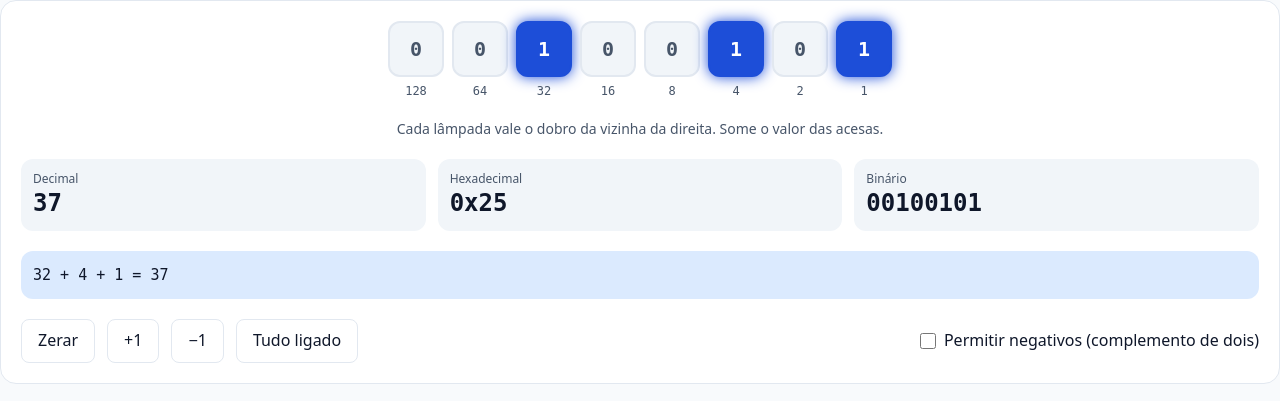
Scenario: simulador de binário › com negativos, o bit mais à esquerda vale -128
The image size is (1280, 401).
Click the button "Tudo ligado" at x=297, y=341, box [236,319,358,363]
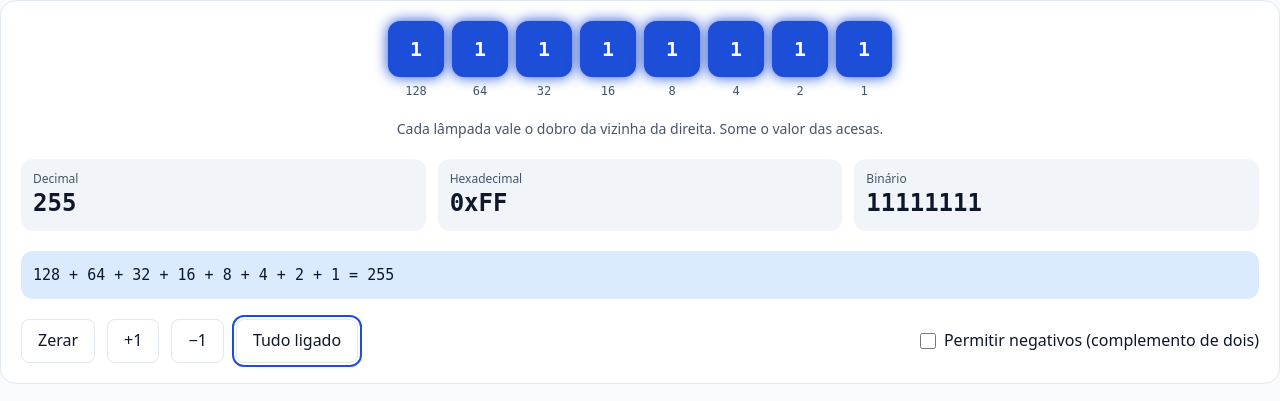
Click the checkbox labelled "Permitir negativos (complemento de dois)" at x=928, y=341, box [920,333,936,349]
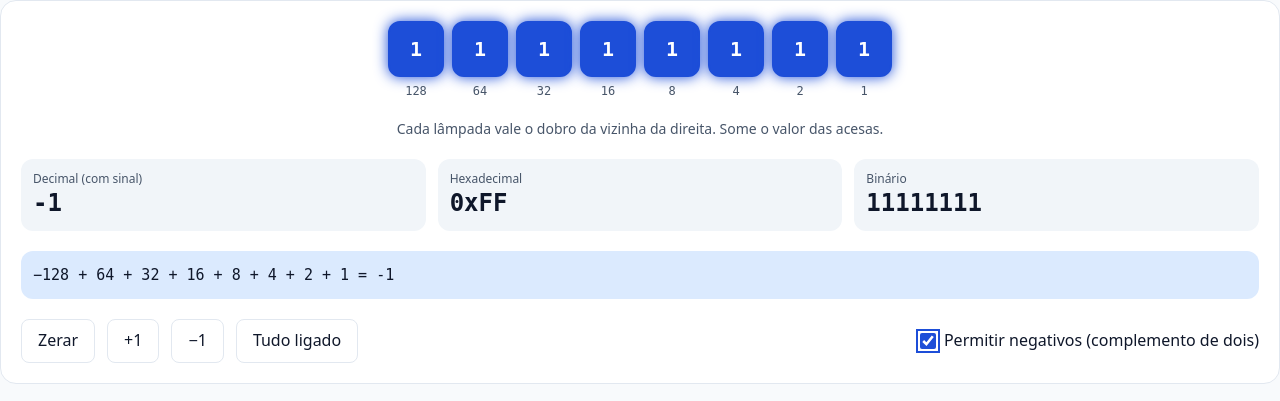
Now the text "-1" is shown, box [33,189,62,217]
